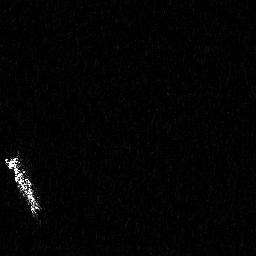ship: (3, 149, 45, 225)
